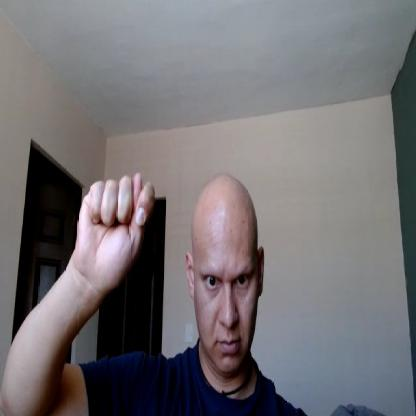T: (78, 170, 158, 289)
